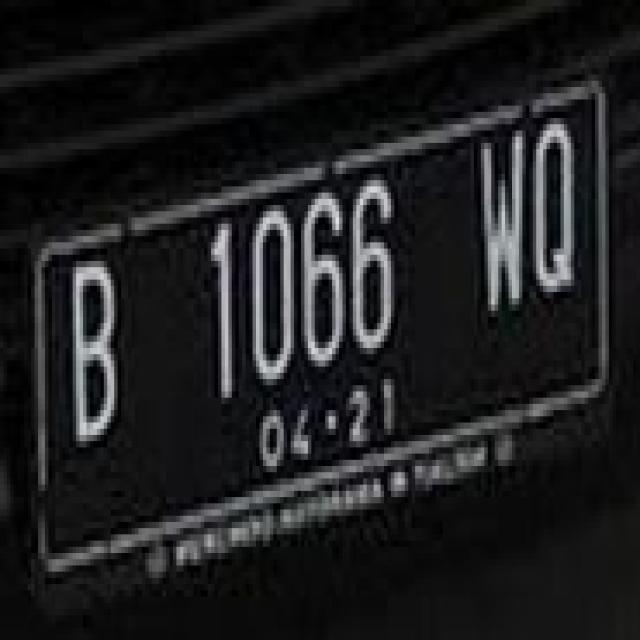0: (249, 201, 300, 395)
1: (203, 209, 248, 413)
6: (348, 165, 400, 363), (300, 184, 350, 377)
B: (65, 243, 130, 458)
Q: (533, 111, 584, 315)
W: (476, 120, 528, 328)
